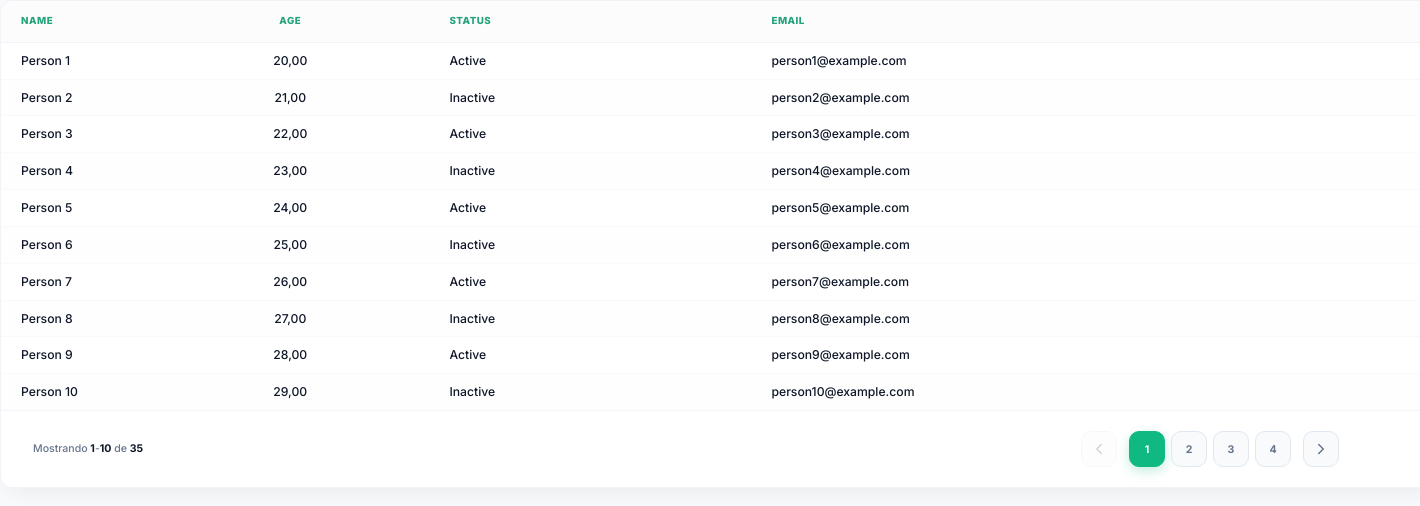
Test case: ModernTable Integration Tests › Pagination › handles clicking on specific page number
Click the button "2".
click(1189, 449)  # box [1171,431,1207,467]
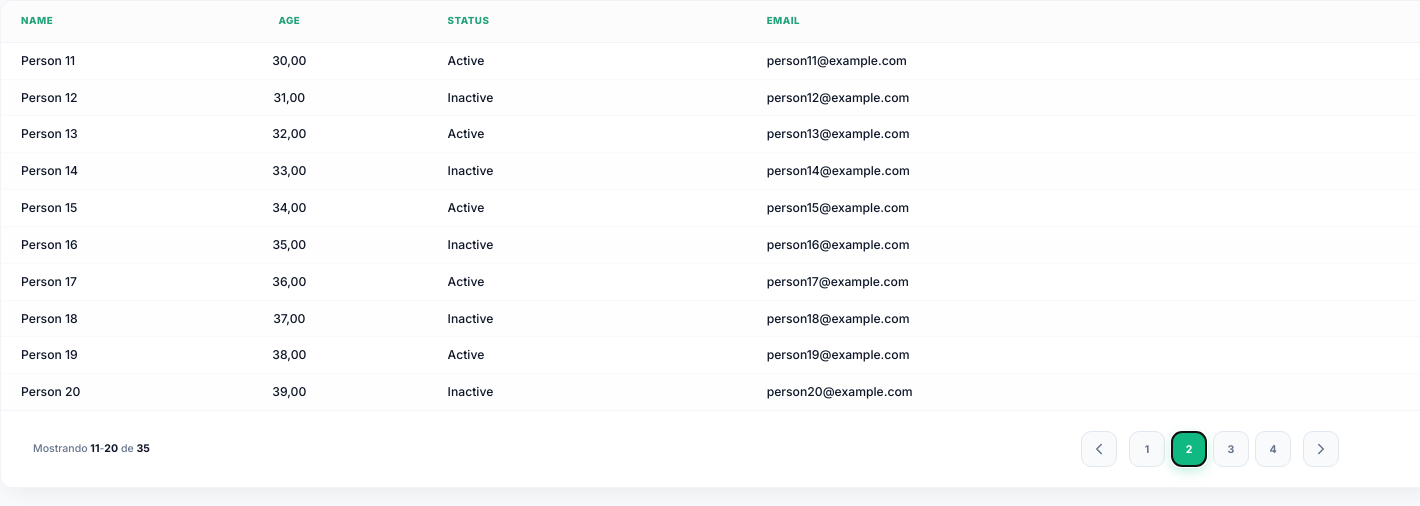
Check: the text "Person 11" is shown, box [1,42,151,79]
